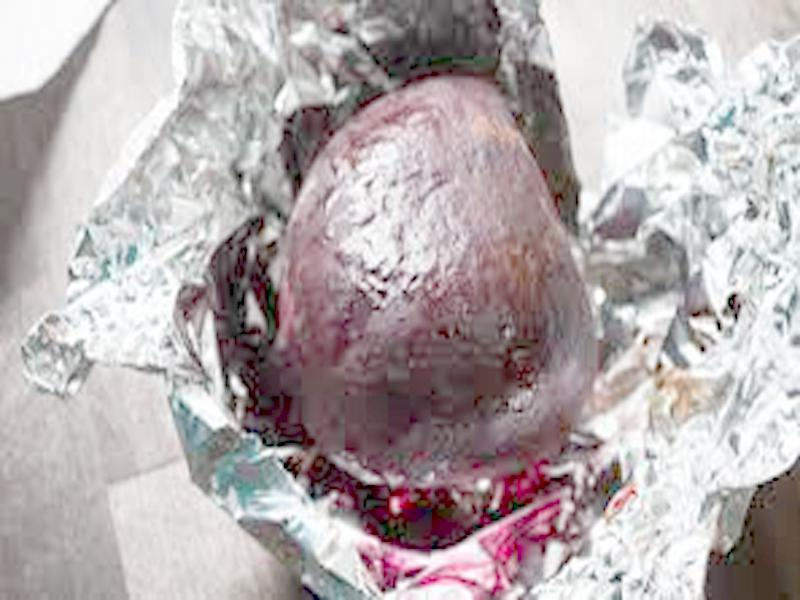Beet: (272, 74, 598, 469)
